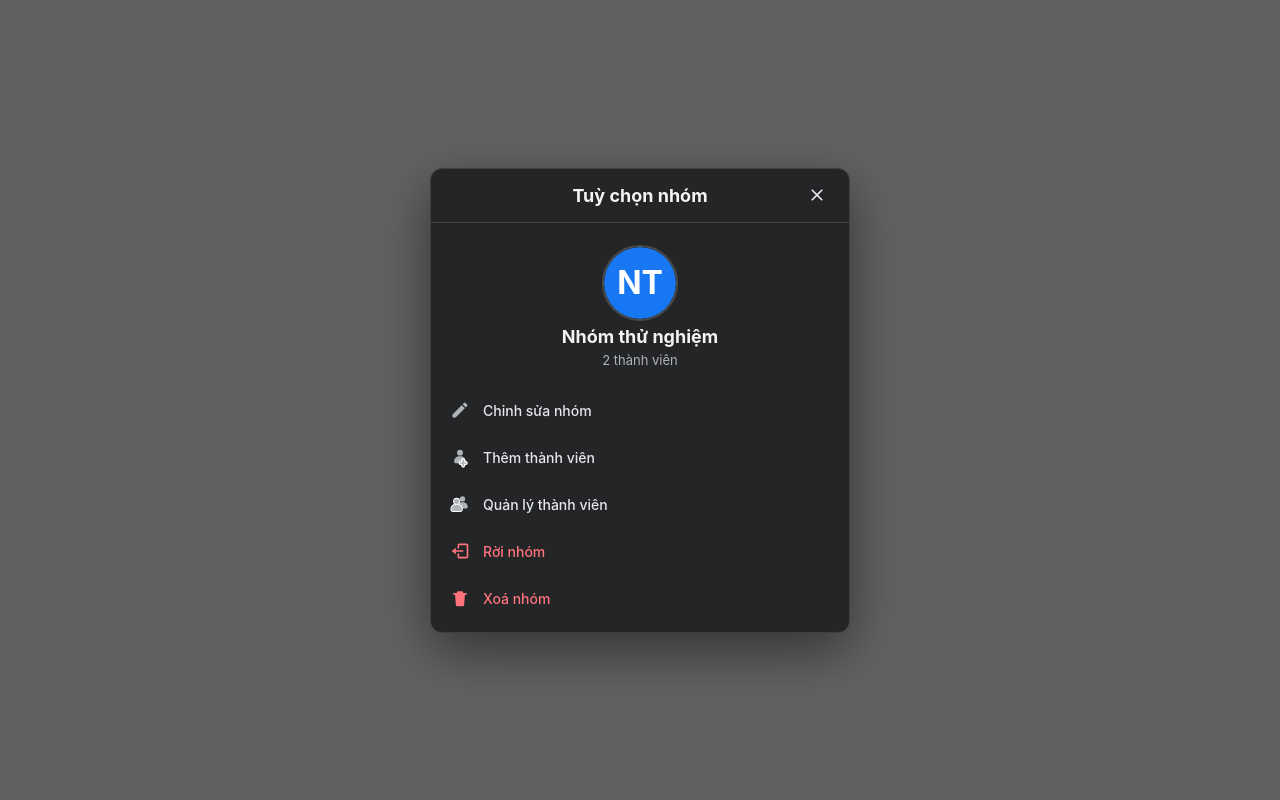
GroupConversationManager › shows administrator actions and marks administrators with a crown
The image size is (1280, 800).
Check: the text "Chỉnh sửa nhóm" is shown, box [483,402,592,418]
Check: the text "Thêm thành viên" is shown, box [483,448,595,466]
Click the button "Quản lý thành viên" at (545, 504), box [439,480,841,528]
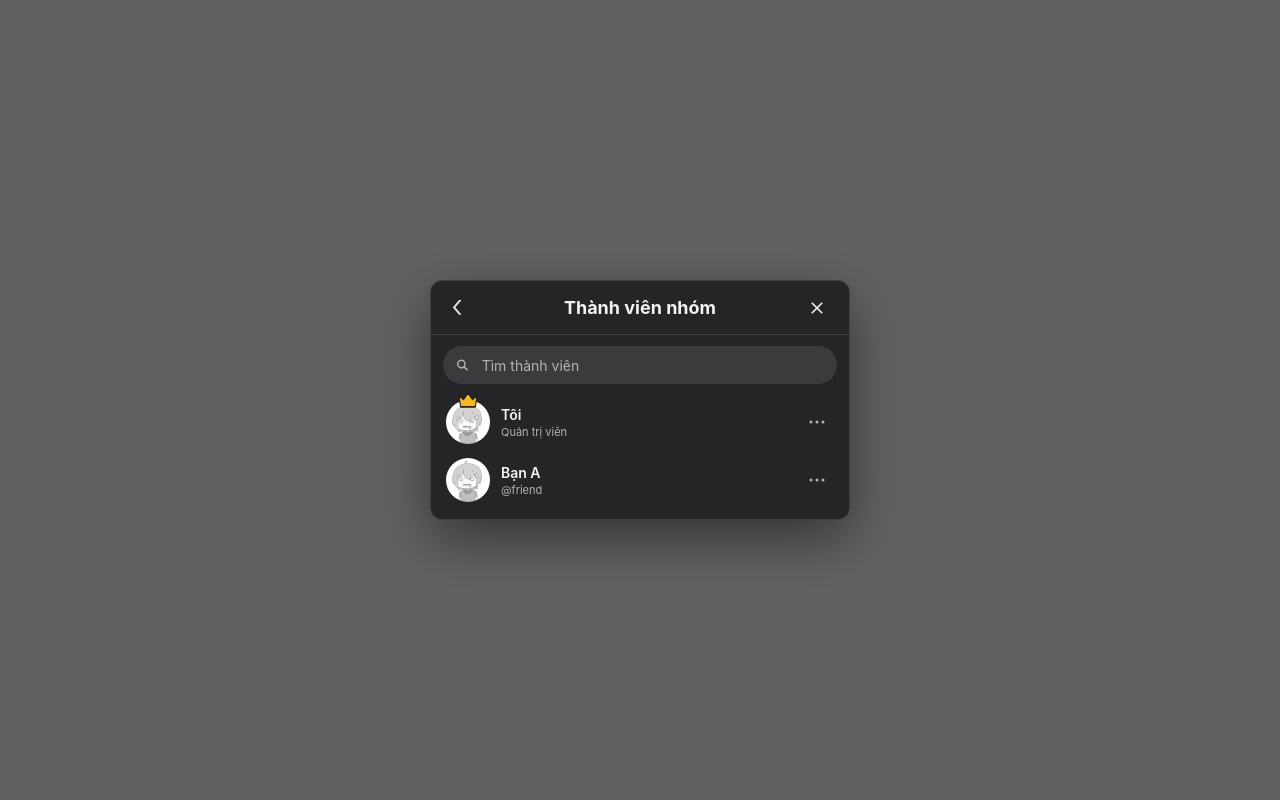
Check: the picture named "Quản trị viên" is shown, box [457,392,479,409]
Check: the text "Bạn A" is shown, box [501,464,540,480]
